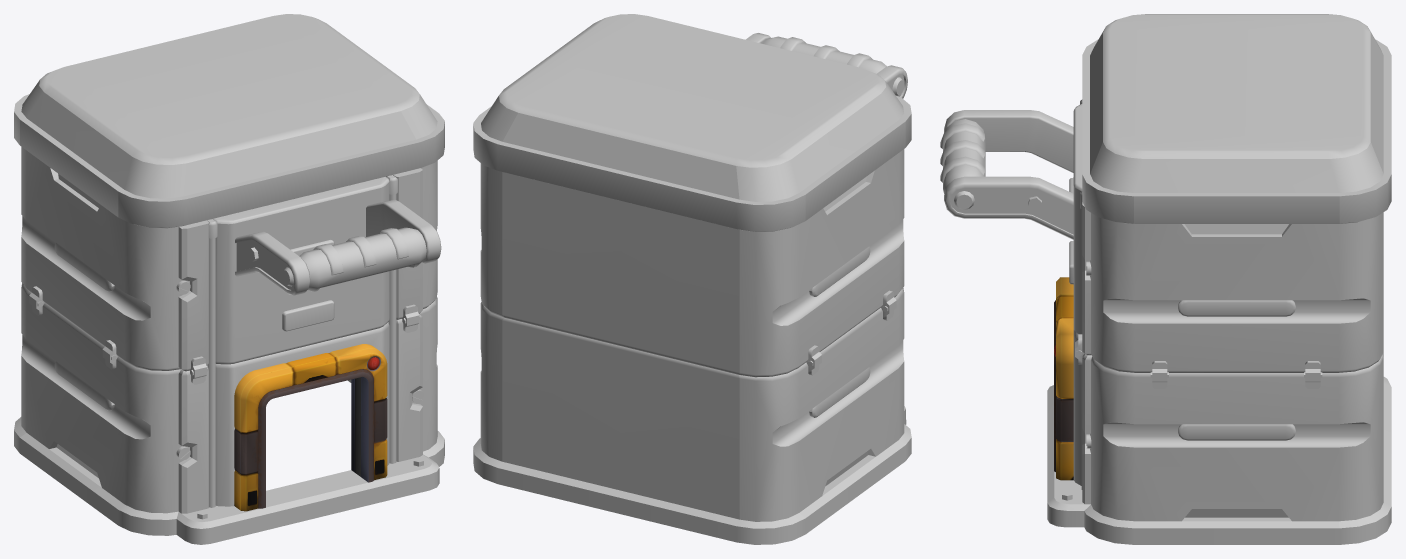
File: env_warehouse_elevator_exterior.fbx
The picture shows the model from 3 angles, left to right: view 1: azimuth 30°, elevation 25°; view 2: azimuth 150°, elevation 25°; view 3: azimuth 270°, elevation 25°; orthographic projection. The views are drawn at different scales.
Visible parts, largest first — view 1: env_warehouse_elevator_exterior_lp1_door_frame; view 2: env_warehouse_elevator_exterior_lp1_door_frame; view 3: env_warehouse_elevator_exterior_lp1_door_frame.
Boxes of the visible parts, x1,y1,x2,y2 form: env_warehouse_elevator_exterior_lp1_door_frame: (14, 14, 444, 544); env_warehouse_elevator_exterior_lp1_door_frame: (473, 14, 911, 544); env_warehouse_elevator_exterior_lp1_door_frame: (940, 14, 1391, 544).
Bounding box in the file's own units: 43.75 × 47.55 × 51.09.
